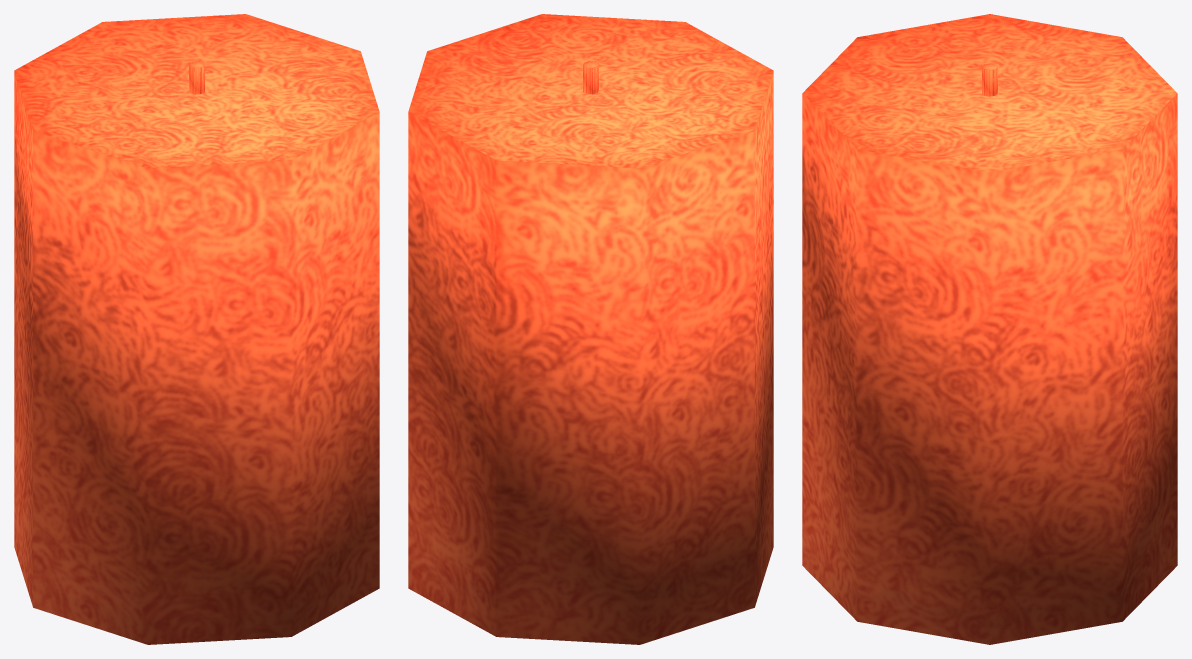
The model's file is Svijeca.fbx.
The picture shows the model from 3 angles, left to right: view 1: azimuth 30°, elevation 25°; view 2: azimuth 150°, elevation 25°; view 3: azimuth 270°, elevation 25°; orthographic projection.
Visible parts, largest first — view 1: Svijeca; view 2: Svijeca; view 3: Svijeca.
Part boxes in pixels (x1,y1,x2,y2): Svijeca: [14, 14, 379, 644]; Svijeca: [408, 14, 773, 644]; Svijeca: [802, 14, 1177, 644].
Bounding box in the file's own units: 371 × 545 × 371.
